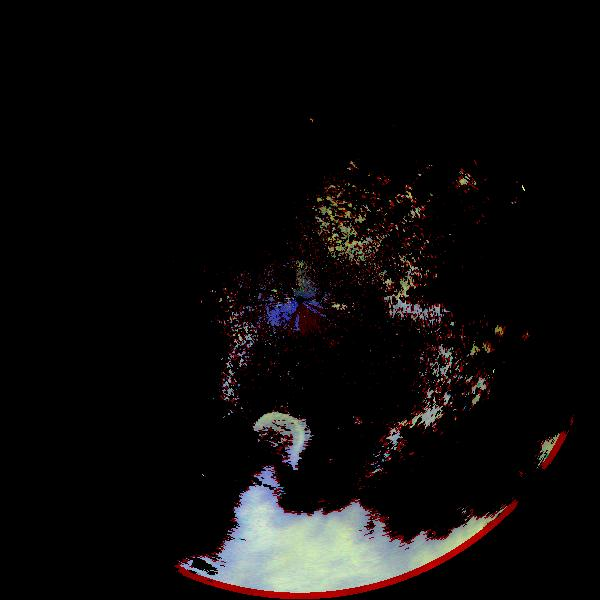roost: (247, 405, 313, 471)
